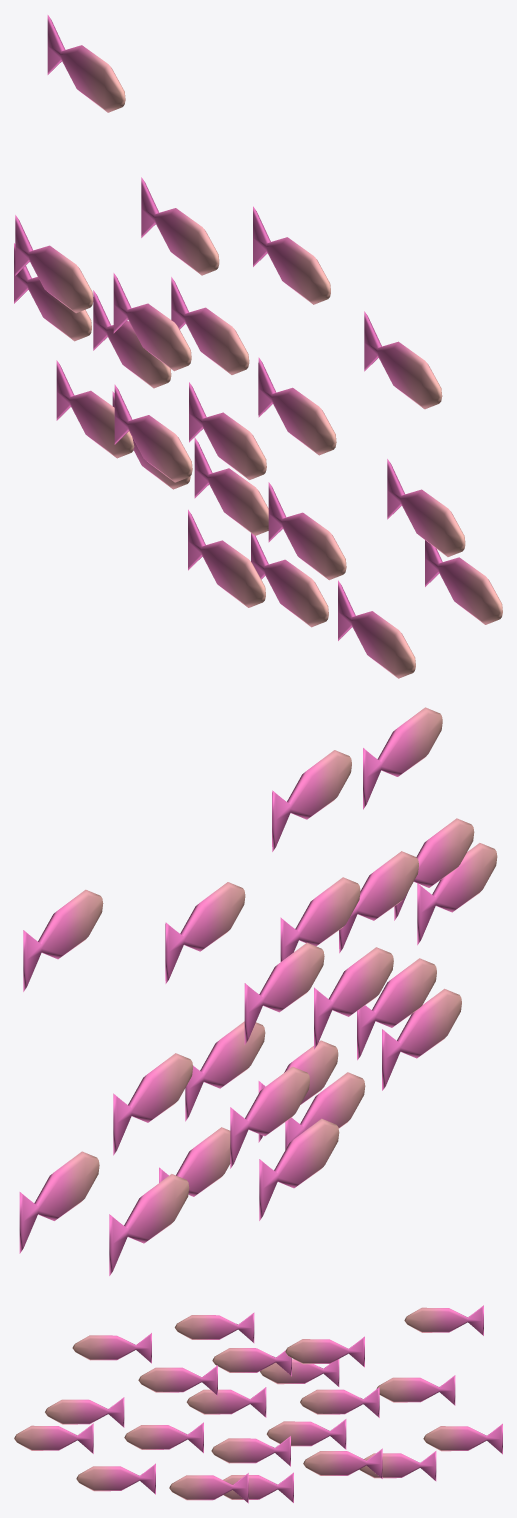
Rendered from fish4.fbx.
3 views of the same model, one above another, from view 1: azimuth 30°, elevation 25°; view 2: azimuth 150°, elevation 25°; view 3: azimuth 270°, elevation 25° (orthographic). The views are drawn at different scales.
Parts seen in each view (by area): view 1: obj4; view 2: obj4; view 3: obj4.
Part boxes in pixels (x1=…): obj4: x1=14, y1=15, x2=502, y2=678; obj4: x1=19, y1=707, x2=497, y2=1275; obj4: x1=14, y1=1305, x2=502, y2=1503.
Bounding box in the file's own units: 11.33 × 52.2 × 110.
Materials: 1 (1 with a texture image).
